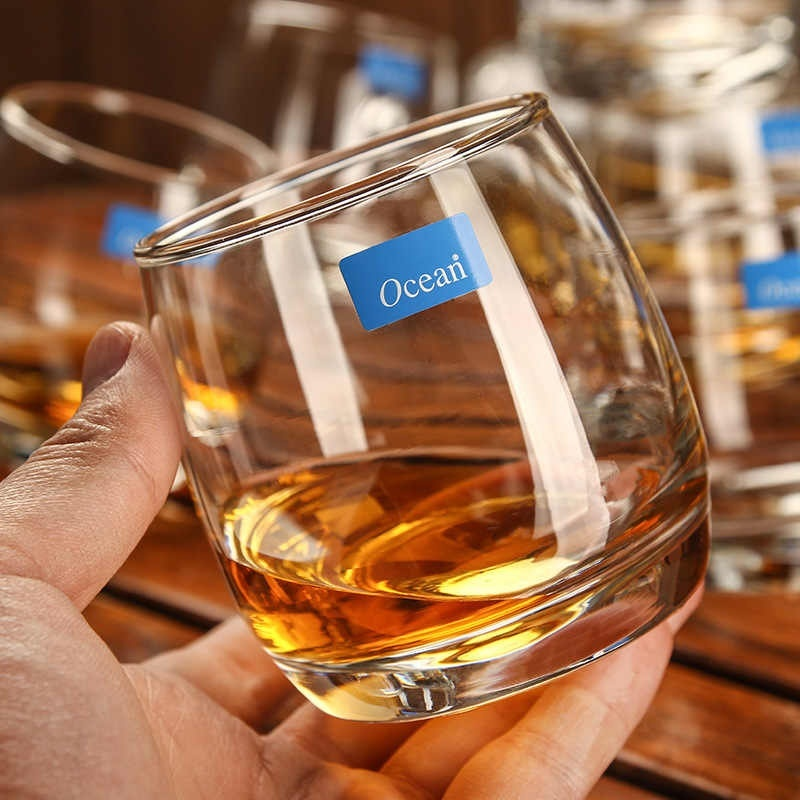whiskey: (141, 92, 712, 728)
